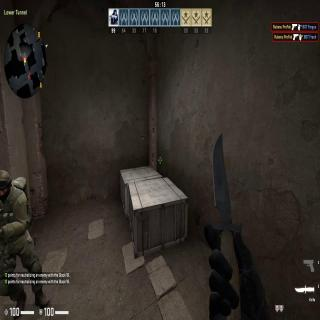CT-Body: (0, 171, 40, 315)
CT-Head: (0, 167, 12, 194)
